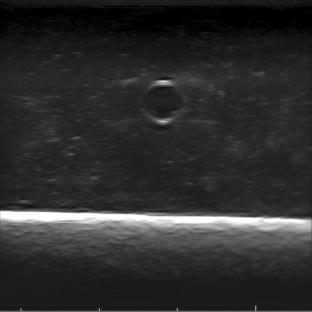vessel: (139, 79, 185, 125)
